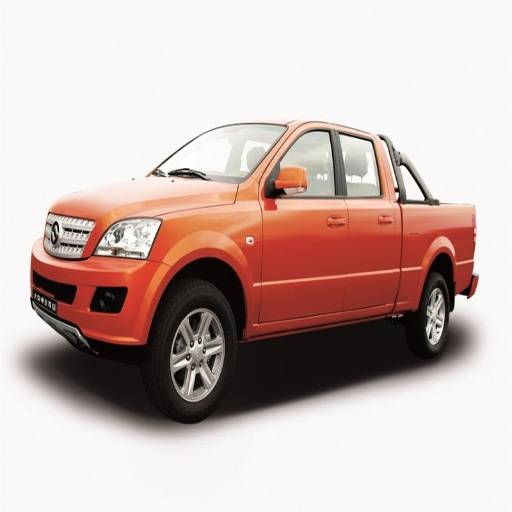back_glass: (334, 127, 398, 307)
back_right_light: (29, 213, 168, 346)
front_bumper: (151, 125, 282, 183)
front_glass: (259, 125, 349, 323)
front_left_door: (95, 217, 161, 258)
front_right_light: (49, 175, 238, 222)
tailgate: (394, 204, 481, 305)
trunk: (146, 282, 234, 422), (407, 272, 451, 357)
